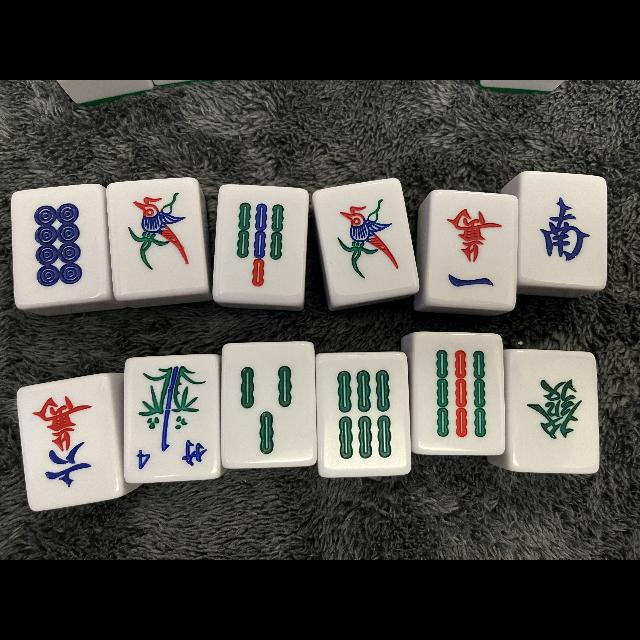b1: (111, 182, 203, 292), (323, 185, 409, 292)
b3: (223, 343, 313, 465)
b6: (318, 355, 408, 475)
b7: (217, 188, 303, 302)
b9: (415, 333, 503, 453)
c1: (431, 194, 515, 304)
c6: (24, 381, 110, 499)
d8: (14, 190, 104, 300)
dg: (509, 352, 599, 470)
f4: (127, 438, 217, 478)
ws: (522, 174, 604, 284)
